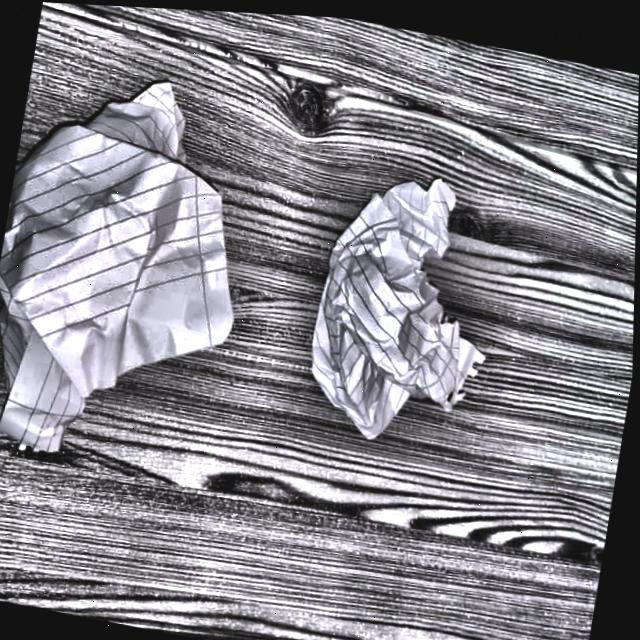paper: (0, 75, 262, 501), (291, 148, 517, 470)
